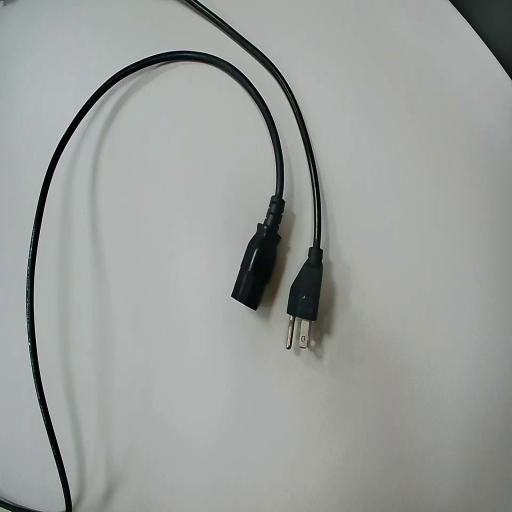wire: (28, 52, 284, 511), (186, 0, 322, 321)
